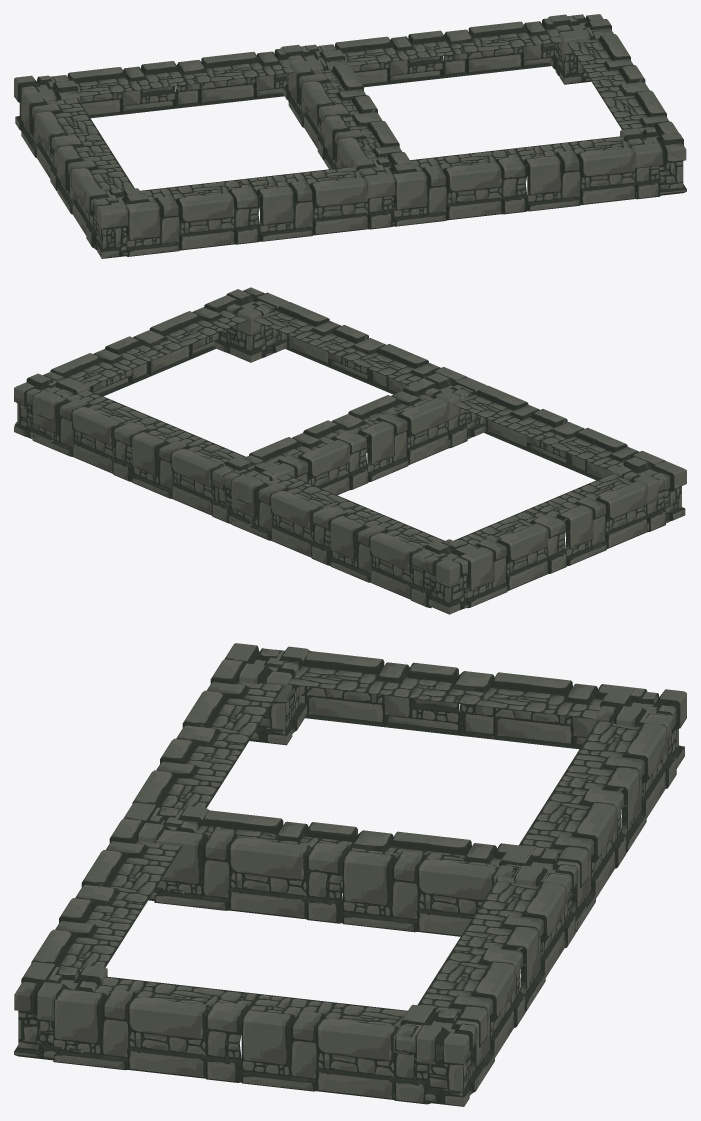
The model's file is polysurface253_txt_truc_en_pierrebas_0_lev1_lev2.glb.
3 renders of one model, top to bottom at view 1: azimuth 30°, elevation 25°; view 2: azimuth 150°, elevation 25°; view 3: azimuth 270°, elevation 25°, orthographic. The views are drawn at different scales.
Visible parts, largest first — view 1: polysurface253_txt_truc_en_pierrebas_0_lev1_lev2; view 2: polysurface253_txt_truc_en_pierrebas_0_lev1_lev2; view 3: polysurface253_txt_truc_en_pierrebas_0_lev1_lev2.
Boxes of the visible parts, x1,y1,x2,y2 form: polysurface253_txt_truc_en_pierrebas_0_lev1_lev2: (14, 14, 686, 258); polysurface253_txt_truc_en_pierrebas_0_lev1_lev2: (14, 287, 686, 614); polysurface253_txt_truc_en_pierrebas_0_lev1_lev2: (14, 643, 686, 1106).
Bounding box in the file's own units: 14.89 × 1.19 × 10.58.
1 material, 1 textured.
